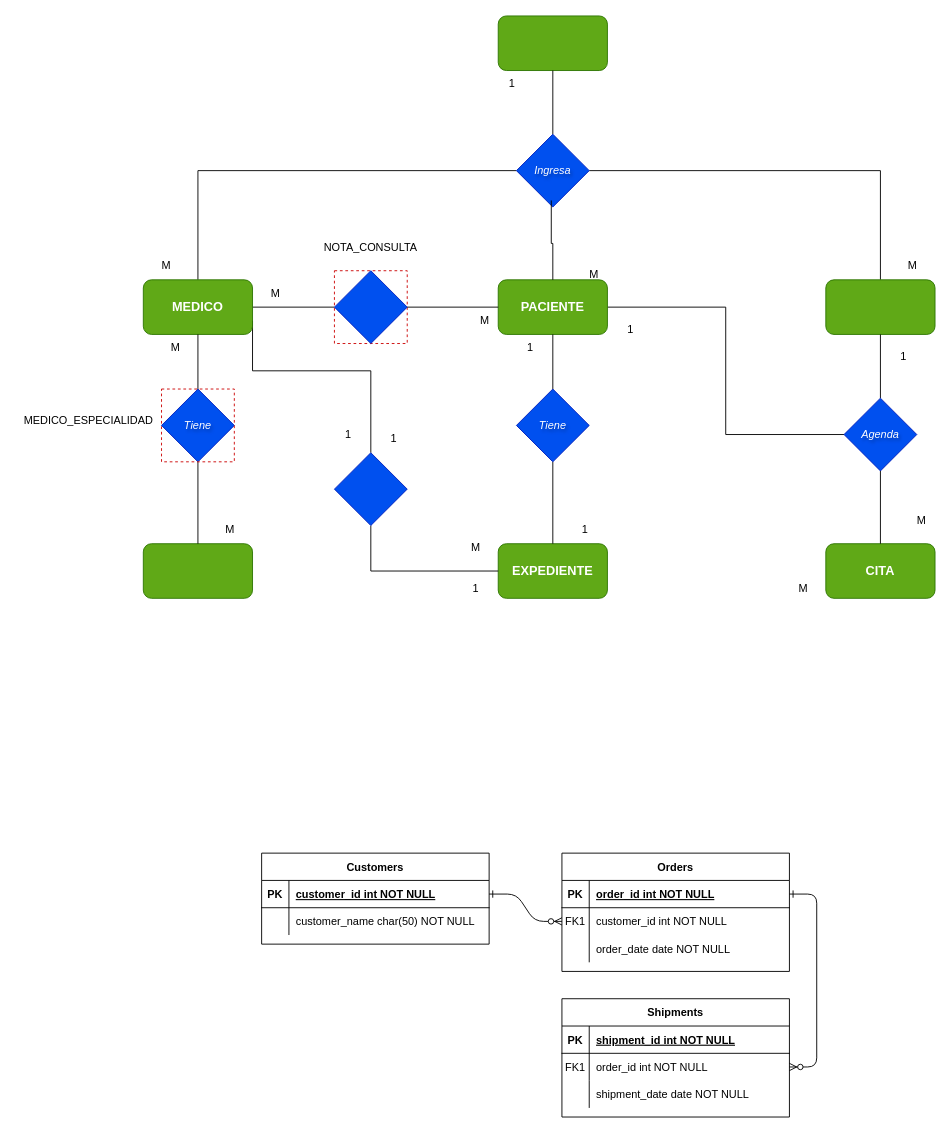
Some shapes in this 951 by 1133 pixel diagram are drawn without their labels. Here are the shapes that lost their labels. From the top down, the centre of each, then its label:
point (552, 43): USUARIO
point (370, 307): Atiende
point (880, 306): ASISTENTE MEDICO
point (370, 489): Actualiza
point (197, 570): ESPECIALIDAD
